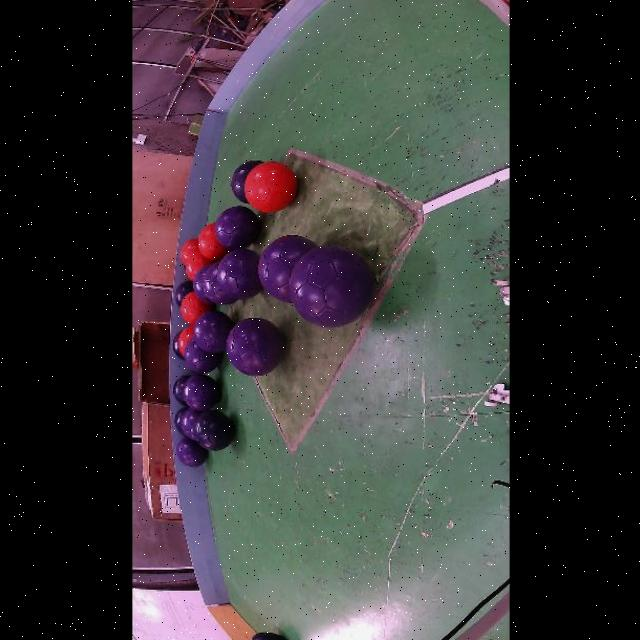B: (193, 409, 234, 451), (172, 375, 188, 407), (175, 281, 192, 307), (173, 407, 187, 435), (172, 332, 184, 361), (250, 632, 285, 640)
P: (289, 245, 373, 328), (257, 235, 316, 303), (226, 317, 283, 376), (215, 249, 261, 299), (214, 206, 259, 249), (193, 311, 234, 353), (183, 338, 222, 374), (202, 263, 236, 304), (230, 160, 262, 203), (183, 374, 219, 412), (176, 438, 206, 467), (192, 265, 213, 304), (180, 408, 200, 441)
R: (244, 161, 297, 212), (197, 223, 228, 260), (180, 291, 213, 325), (184, 250, 212, 281), (180, 239, 198, 264), (177, 327, 192, 355)
